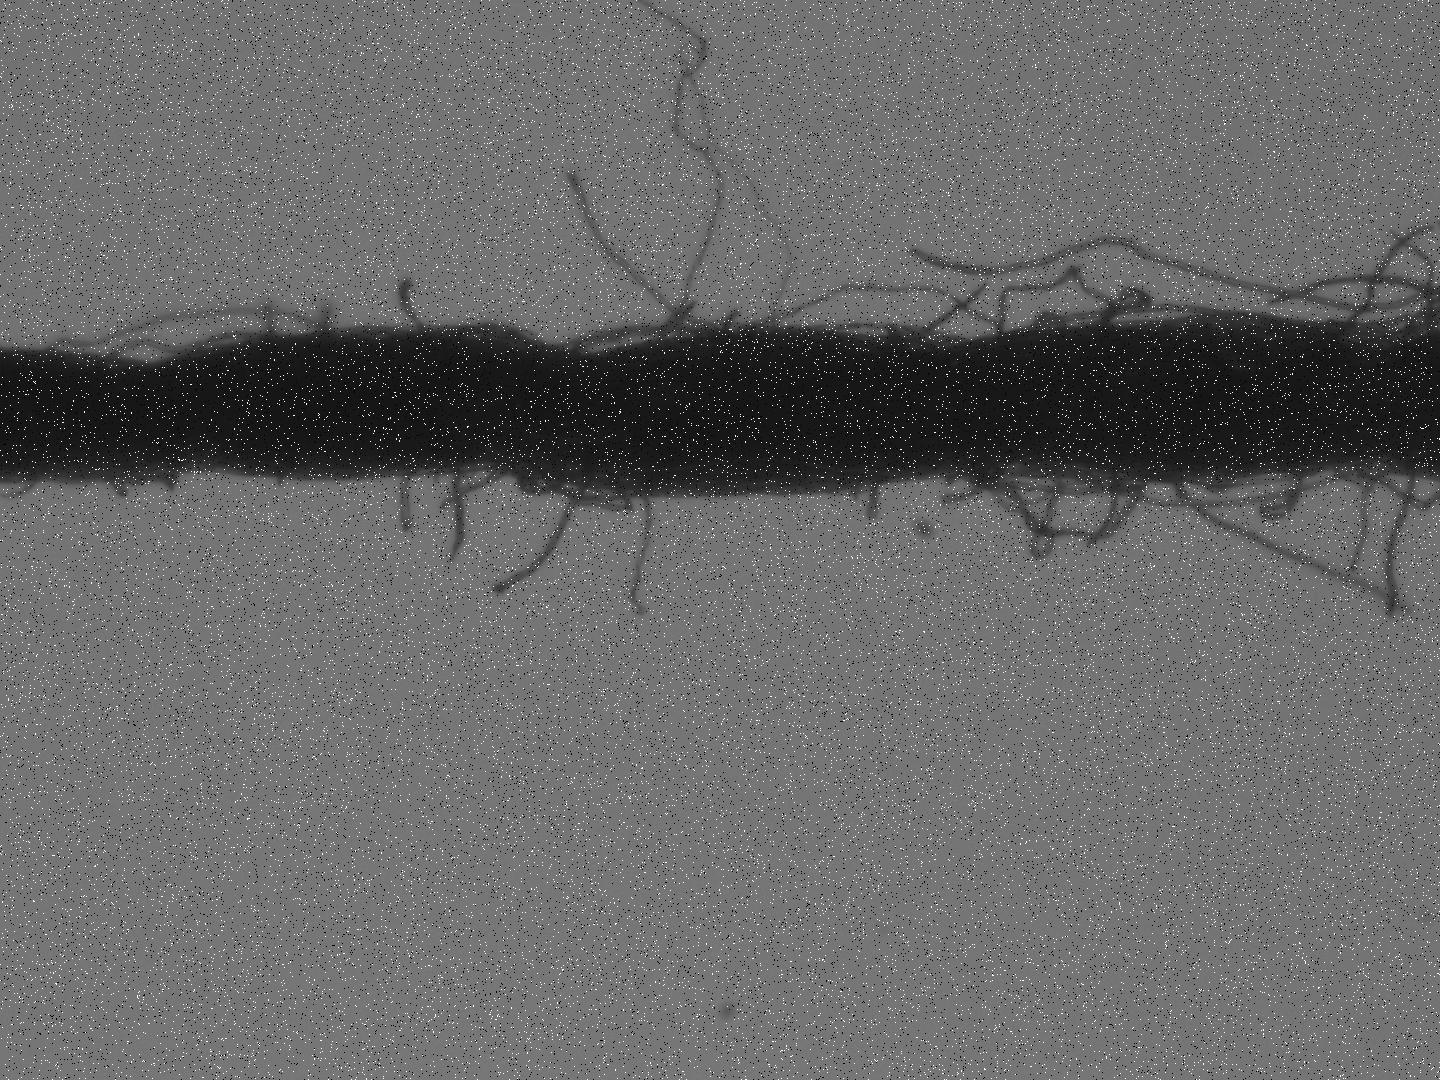loop_fiber: (731, 285, 999, 339), (969, 463, 1136, 540), (1091, 464, 1374, 507), (52, 310, 320, 352), (998, 269, 1147, 339), (1009, 301, 1228, 336), (1002, 469, 1060, 559), (571, 327, 702, 353), (1355, 462, 1430, 506), (815, 320, 937, 344), (544, 478, 626, 511), (517, 469, 581, 495), (186, 331, 259, 354), (111, 341, 186, 361), (449, 319, 520, 336), (1034, 312, 1062, 337), (398, 471, 409, 530)
protruding_fiber: (913, 236, 1437, 310), (1174, 479, 1414, 616), (570, 167, 709, 328), (493, 484, 581, 596), (1389, 479, 1413, 616), (629, 497, 653, 614), (396, 279, 422, 337), (450, 474, 461, 559)
